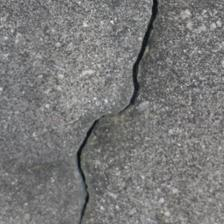Crack: (0, 0, 97, 99), (3, 54, 113, 110)
